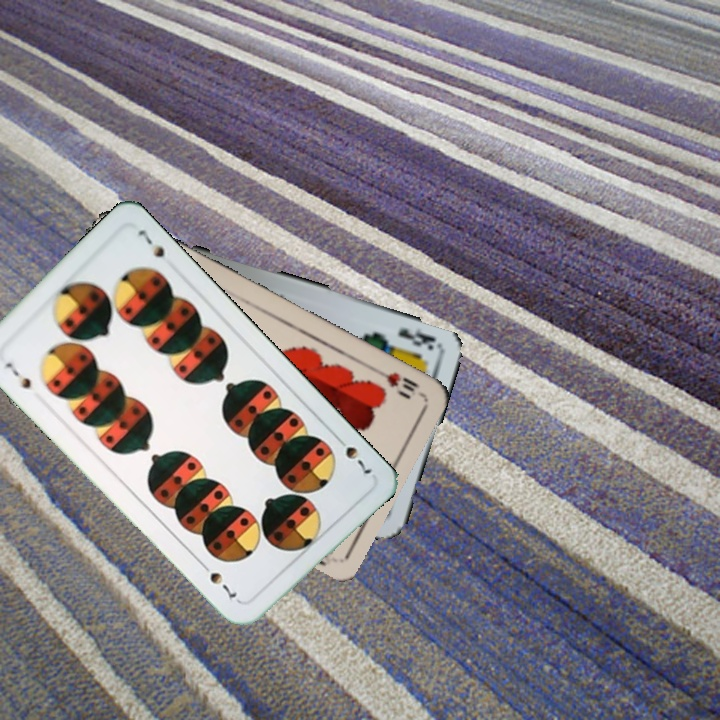EK: (394, 324, 439, 353)
H10: (370, 364, 425, 399)
S7: (331, 431, 376, 477), (1, 358, 34, 391)
